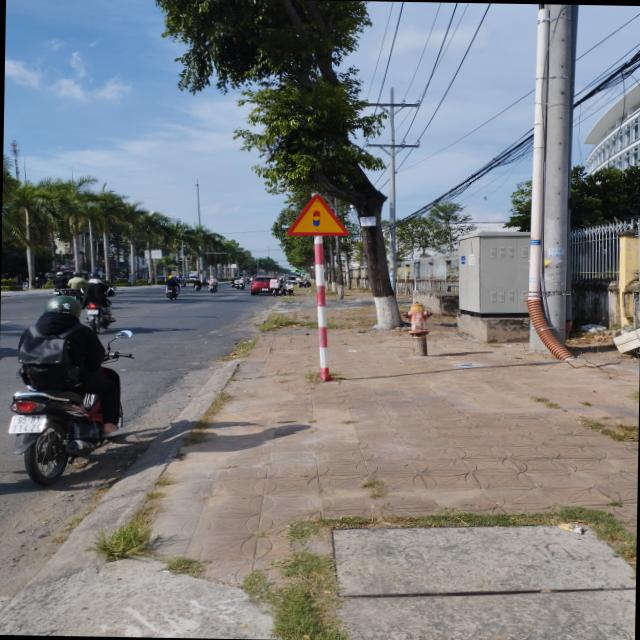Duong_Co_Go_Giam_Toc: (286, 193, 348, 236)
